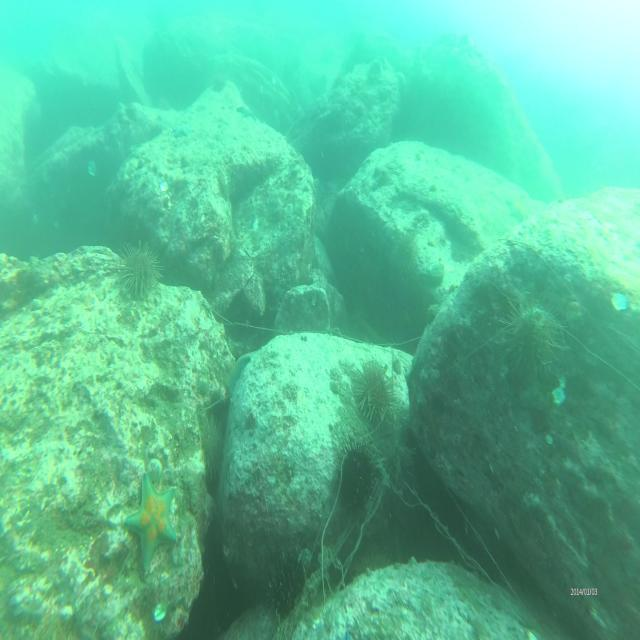echinus: (501, 301, 562, 382), (339, 443, 376, 514), (354, 363, 394, 428), (118, 242, 158, 300), (197, 410, 224, 478)
starfish: (123, 476, 180, 580)
